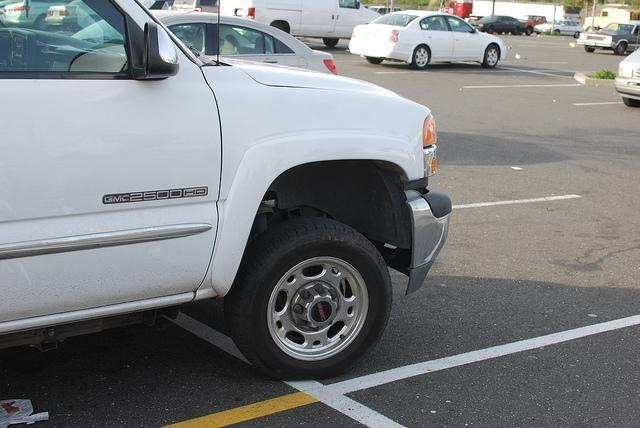car: (154, 12, 340, 75), (348, 9, 506, 69), (254, 1, 382, 42), (576, 18, 640, 54), (613, 46, 640, 107), (470, 16, 528, 34), (534, 20, 584, 38)
truck: (1, 0, 452, 378), (518, 15, 546, 35)
